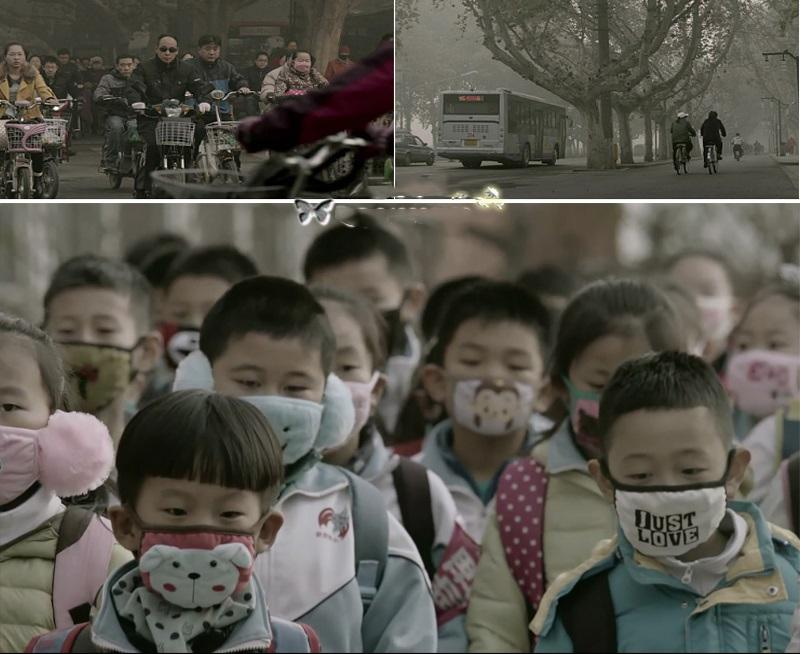NONE: (159, 44, 179, 64), (10, 50, 25, 67), (205, 48, 220, 63), (121, 62, 134, 77), (45, 63, 58, 78)
OK: (143, 482, 264, 604), (609, 446, 723, 560), (224, 356, 322, 461), (445, 335, 540, 434), (573, 354, 663, 452), (294, 331, 374, 428), (47, 305, 135, 393), (722, 322, 800, 415), (170, 282, 243, 372), (1, 385, 52, 498), (671, 272, 736, 338), (296, 56, 312, 73)
